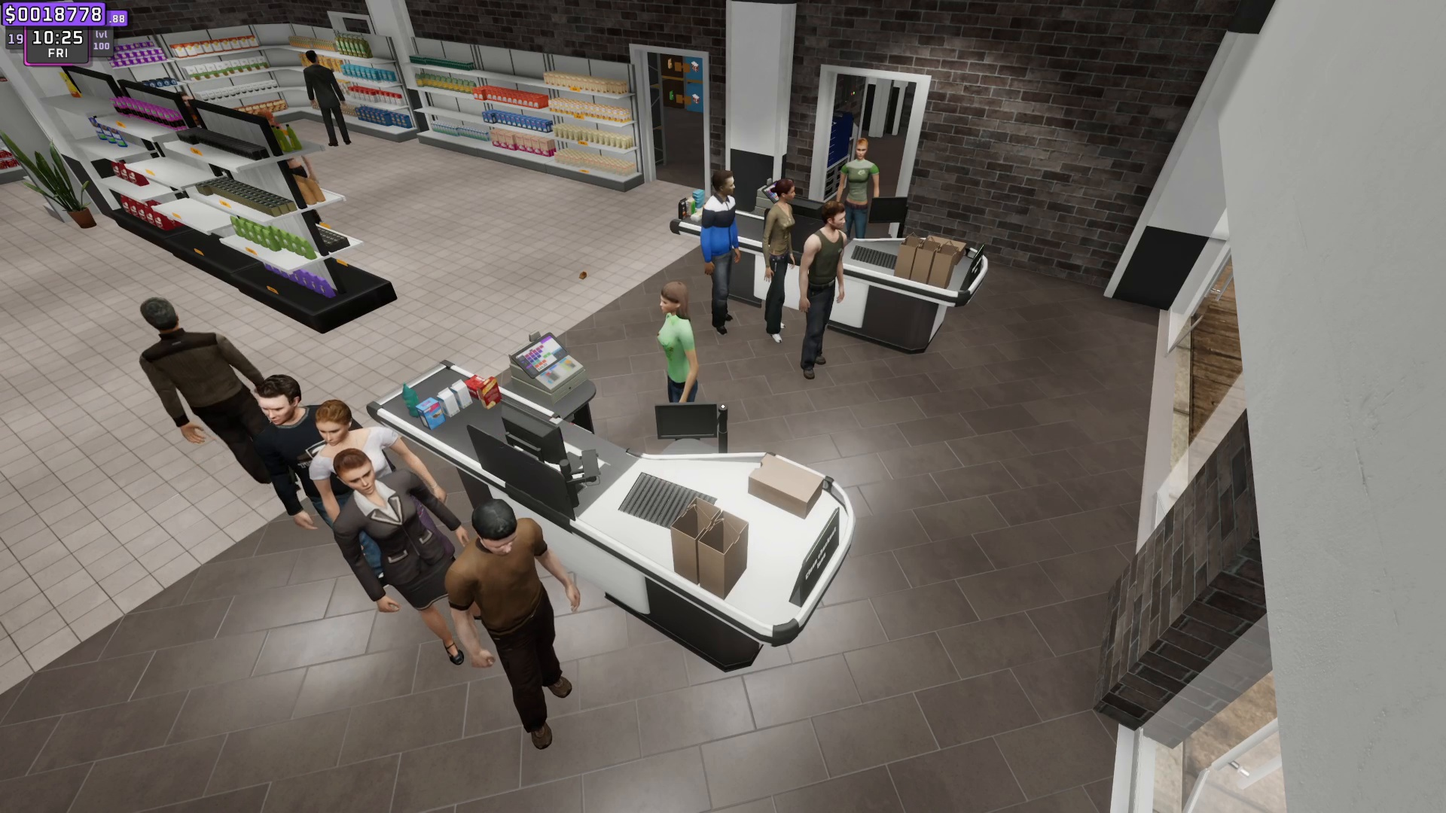Client: (330, 459, 485, 656), (123, 294, 275, 490), (451, 504, 568, 724), (315, 402, 429, 569), (254, 377, 370, 527), (695, 162, 747, 335), (807, 200, 844, 396), (760, 170, 791, 357)
Employee: (652, 283, 707, 402), (842, 137, 878, 234)
